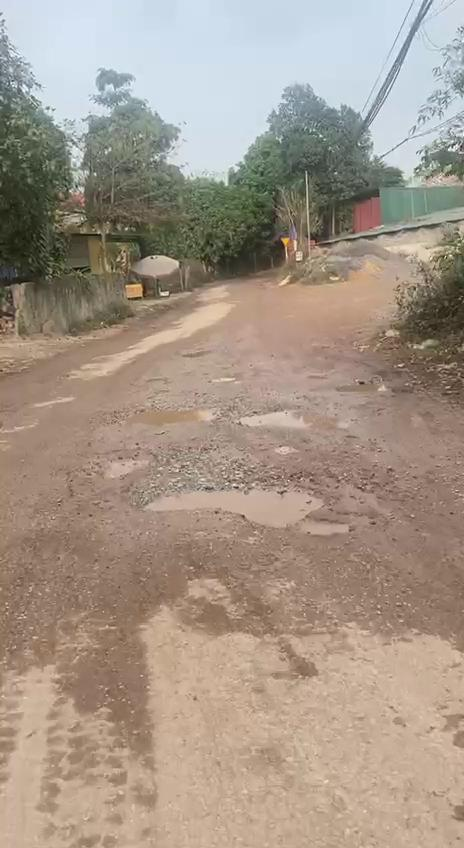pothole: (131, 477, 351, 541), (49, 444, 156, 510), (217, 394, 355, 440), (118, 399, 221, 431)
